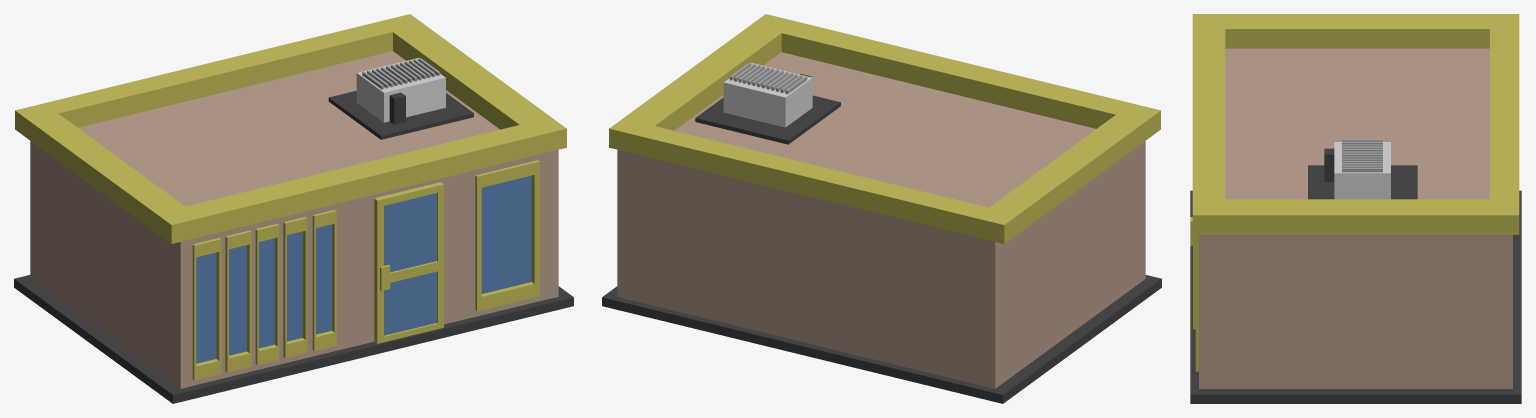
File: maison3.fbx
The picture shows the model from 3 angles, left to right: view 1: azimuth 30°, elevation 25°; view 2: azimuth 150°, elevation 25°; view 3: azimuth 270°, elevation 25°; orthographic projection. The views are drawn at different scales.
Parts seen in each view (by area): view 1: pCube34, pCube22, pCube20, pCube23, pCube26, pCube25, pCube18, pCube24, pCube33, pCube36, pCube35, pCube28 (+6 smaller); view 2: pCube21, pCube34, pCube22, pCube20, pCube18, pCube36, pCube35; view 3: pCube19, pCube22, pCube34, pCube18, pCube36, pCube35, pCube33, pCube17.
Boxes of the visible parts, <box> form: pCube34: <box>15,14,566,243</box>; pCube22: <box>78,51,499,206</box>; pCube20: <box>30,141,189,388</box>; pCube23: <box>189,152,549,386</box>; pCube26: <box>374,182,443,343</box>; pCube25: <box>196,224,331,363</box>; pCube18: <box>14,275,573,403</box>; pCube24: <box>481,175,531,293</box>; pCube33: <box>475,160,539,311</box>; pCube36: <box>356,58,445,122</box>; pCube35: <box>328,90,473,139</box>; pCube28: <box>192,238,221,380</box>; pCube21: <box>618,150,993,388</box>; pCube34: <box>609,14,1160,243</box>; pCube22: <box>674,52,1095,207</box>; pCube20: <box>994,141,1145,388</box>; pCube18: <box>602,275,1161,403</box>; pCube36: <box>723,62,812,127</box>; pCube35: <box>695,95,840,144</box>; pCube19: <box>1199,235,1512,388</box>; pCube22: <box>1225,48,1489,199</box>; pCube34: <box>1192,14,1519,234</box>; pCube18: <box>1190,190,1521,403</box>; pCube36: <box>1334,142,1390,199</box>; pCube35: <box>1308,165,1417,199</box>; pCube33: <box>1195,235,1198,371</box>; pCube17: <box>1324,148,1334,181</box>.
Size of the model in its own units: 47.27 by 22.02 by 32.44.
